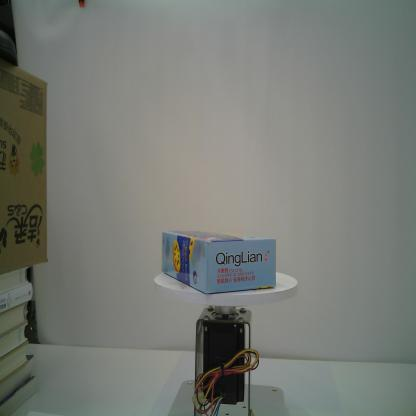Dessert: (160, 228, 276, 295)
